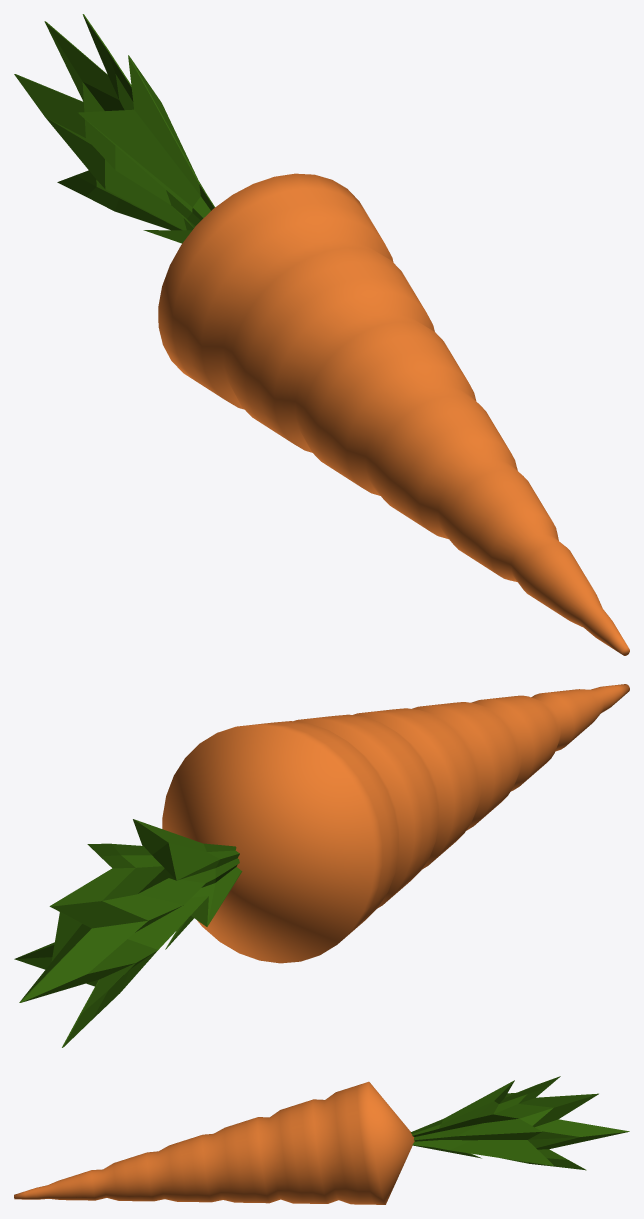
File: carrot.fbx
The picture shows the model from 3 angles, top to bottom: view 1: azimuth 30°, elevation 25°; view 2: azimuth 150°, elevation 25°; view 3: azimuth 270°, elevation 25°; orthographic projection. The views are drawn at different scales.
Parts seen in each view (by area): view 1: Cone, Cube; view 2: Cone, Cube; view 3: Cone, Cube.
Boxes of the visible parts, bbox=[...] form: Cone: bbox=[158, 173, 629, 655]; Cube: bbox=[14, 14, 215, 243]; Cone: bbox=[162, 684, 629, 963]; Cube: bbox=[14, 819, 242, 1047]; Cone: bbox=[14, 1081, 414, 1204]; Cube: bbox=[411, 1076, 629, 1170].
Bounding box in the file's own units: 200 × 218 × 989.
